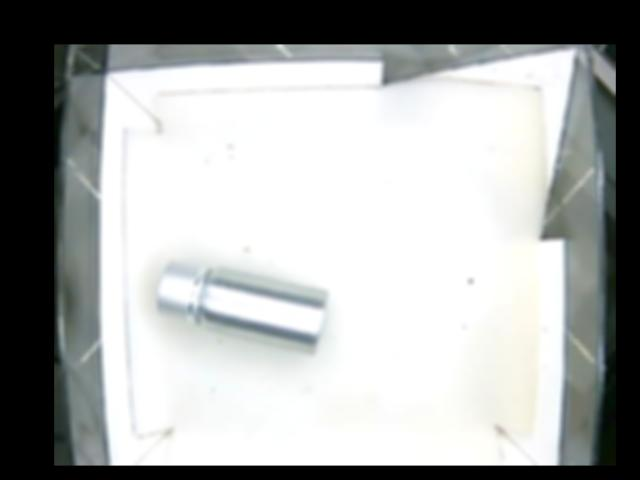Bottle: (155, 258, 329, 355)
